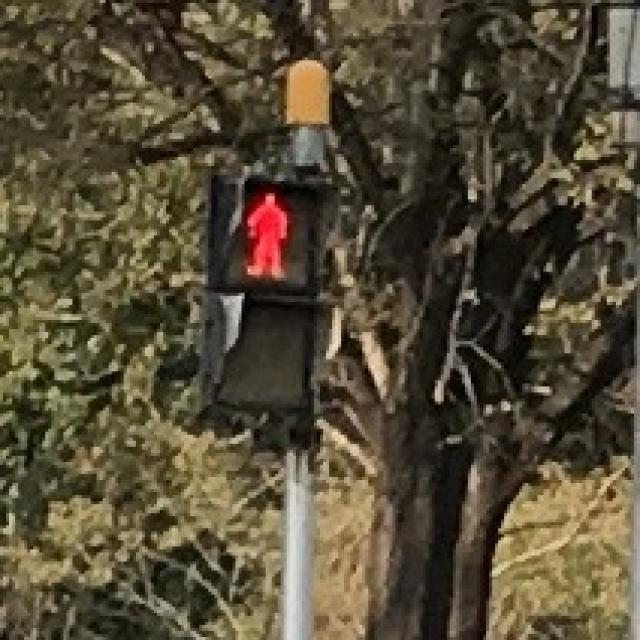red-crossing: (218, 169, 298, 290)
